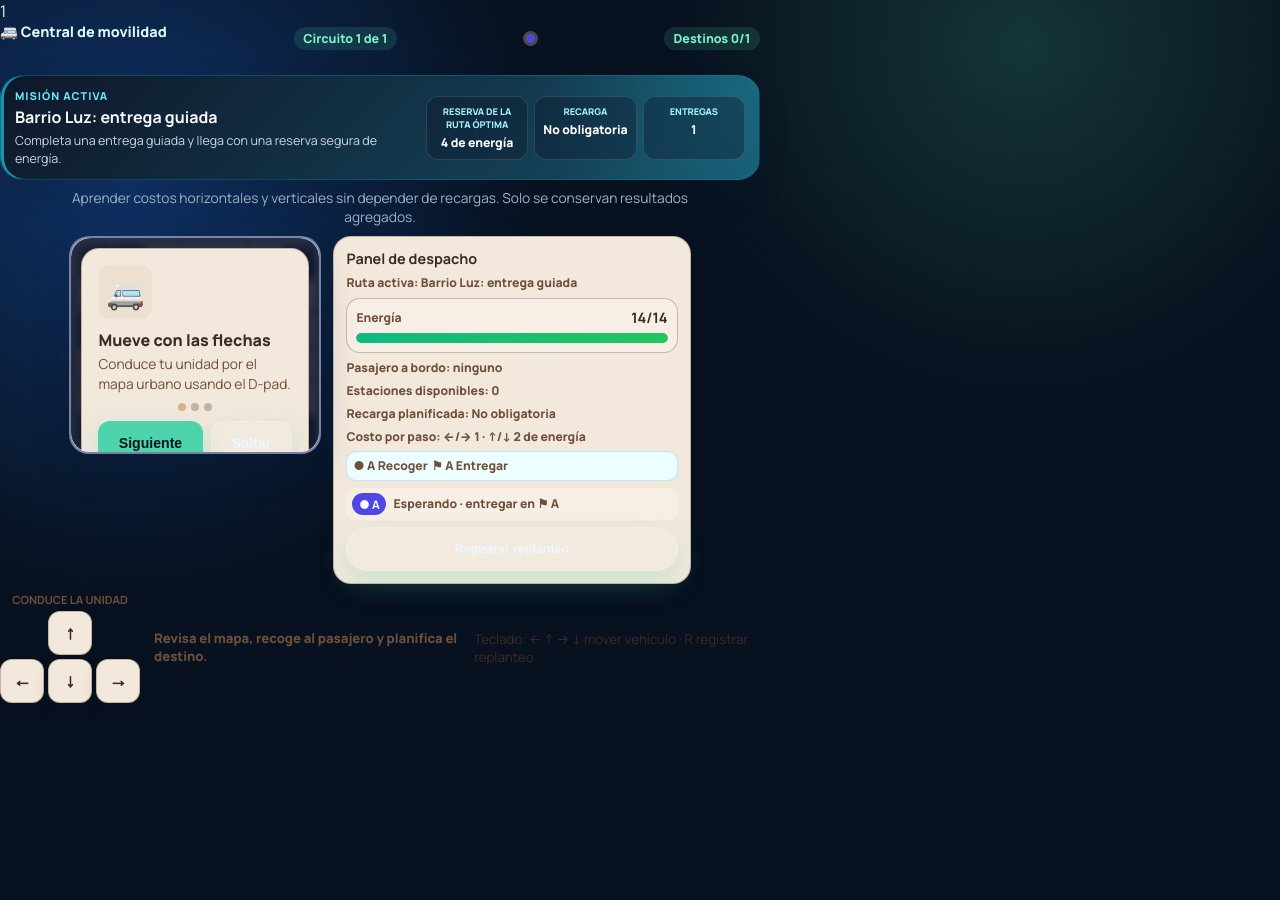
Test: game telemetry re-render stability › does not restart Passenger Routes when telemetry updates re-render the parent
Click the button "Saltar" at (251, 443), box [210, 421, 292, 465]
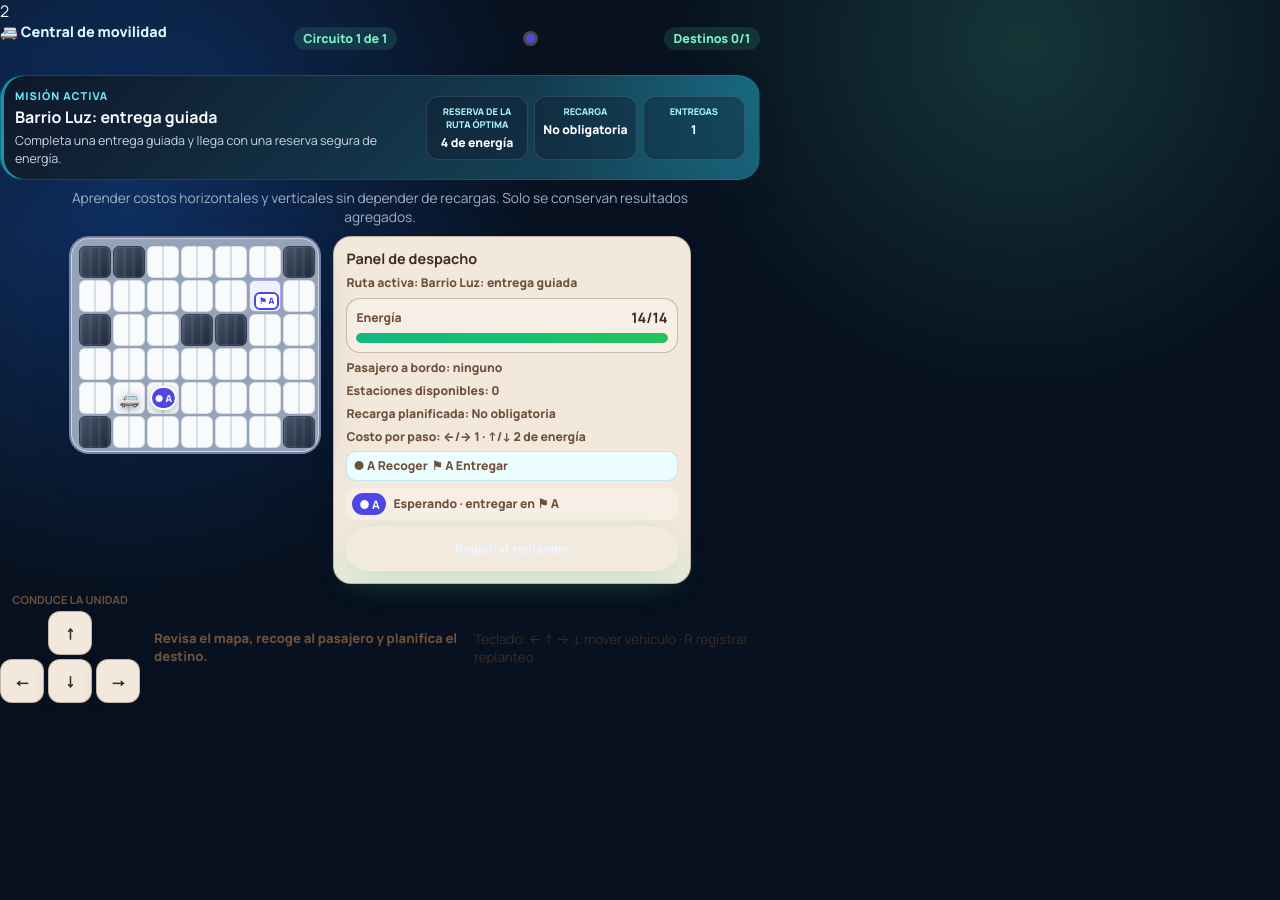
Click the button named "Derecha" at (118, 681), box [96, 659, 140, 703]
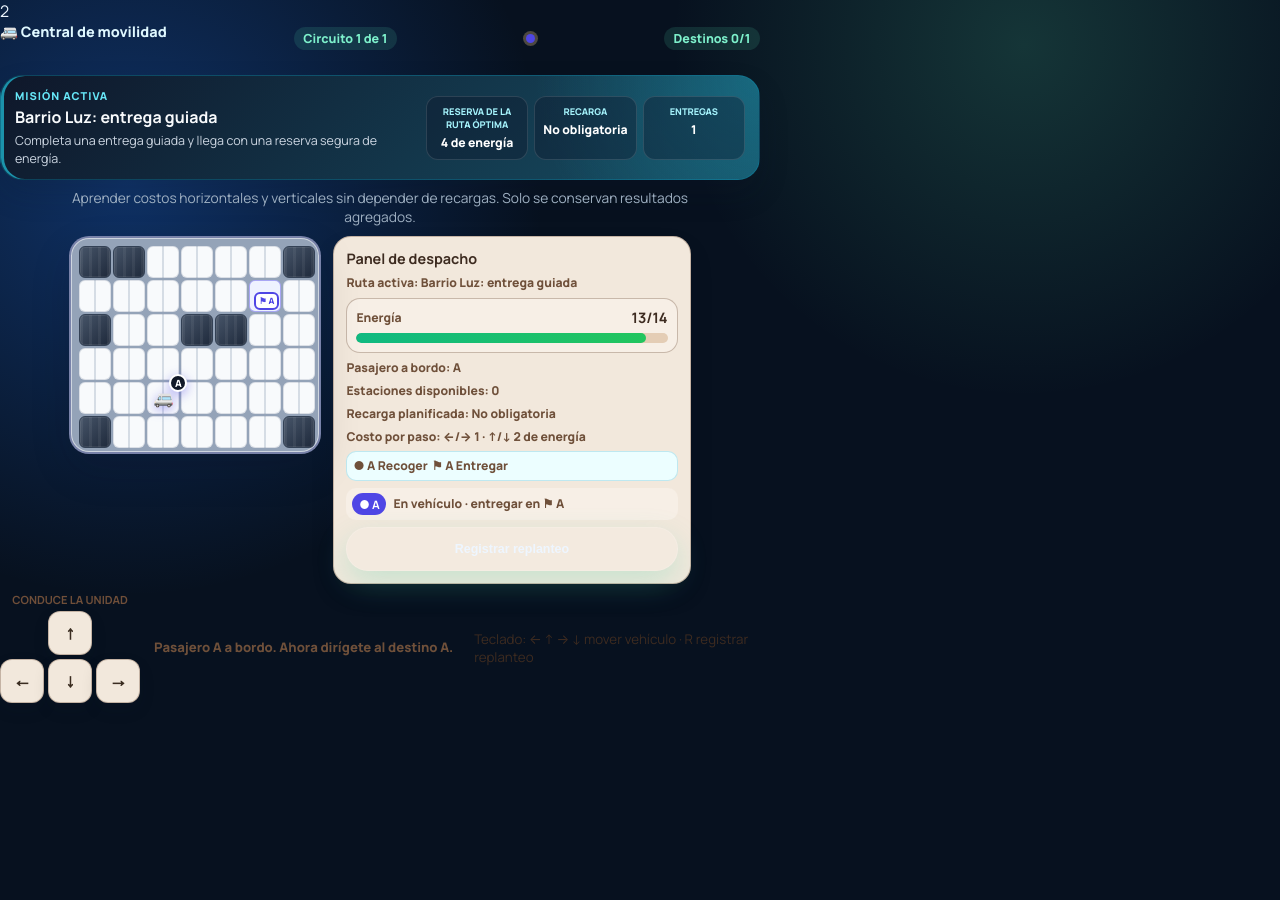
Check: the text "Pasajero A a bordo. Ahora dirígete al destino A." is shown, box [154, 639, 460, 656]
